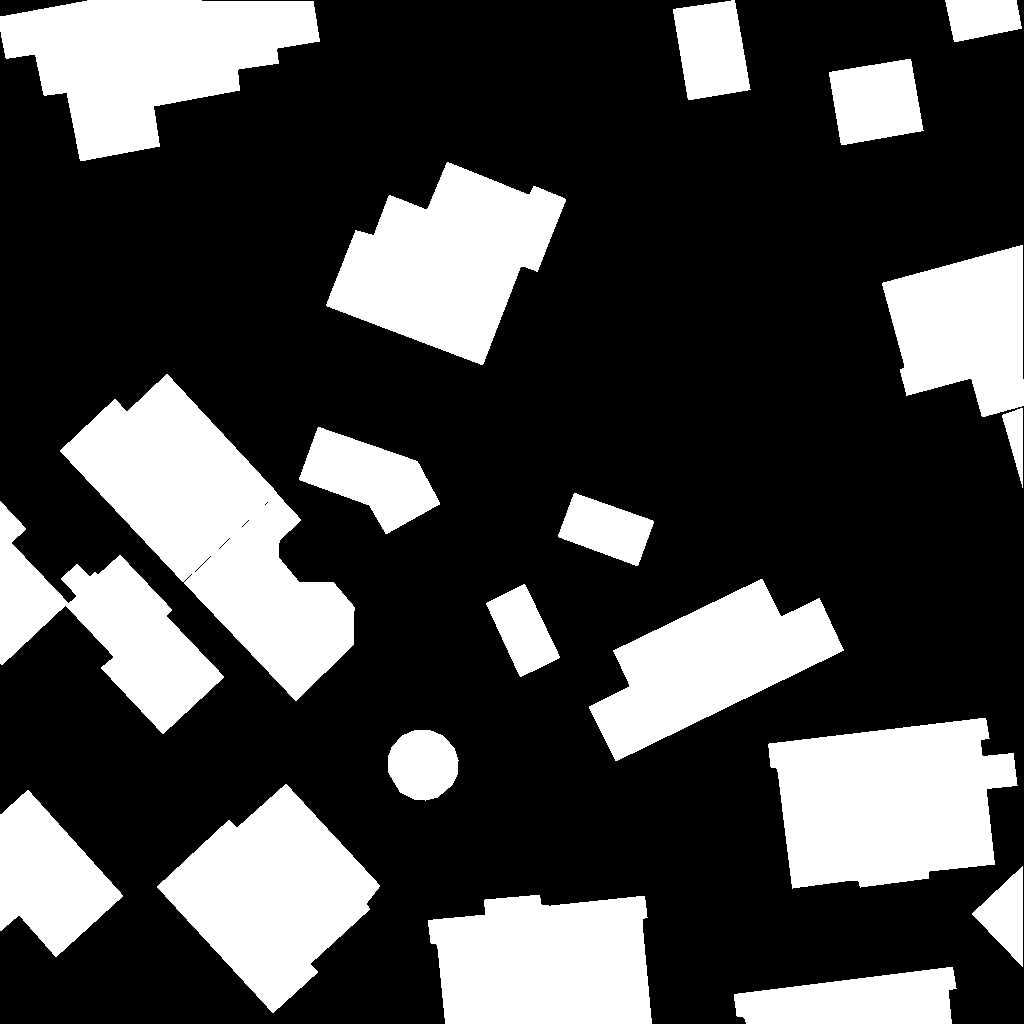building: (0, 0, 321, 162), (157, 784, 381, 1014), (326, 162, 567, 366), (589, 579, 845, 762), (60, 374, 278, 583), (768, 718, 1018, 889), (184, 494, 355, 702), (61, 555, 225, 735), (428, 895, 653, 1024), (882, 245, 1024, 418), (0, 790, 124, 958), (299, 427, 441, 535), (734, 967, 957, 1024), (0, 501, 69, 666), (829, 59, 924, 146), (673, 0, 751, 101), (558, 493, 655, 567), (486, 584, 561, 678), (972, 866, 1024, 968), (388, 730, 459, 801), (945, 0, 1023, 43), (1002, 408, 1024, 490)
